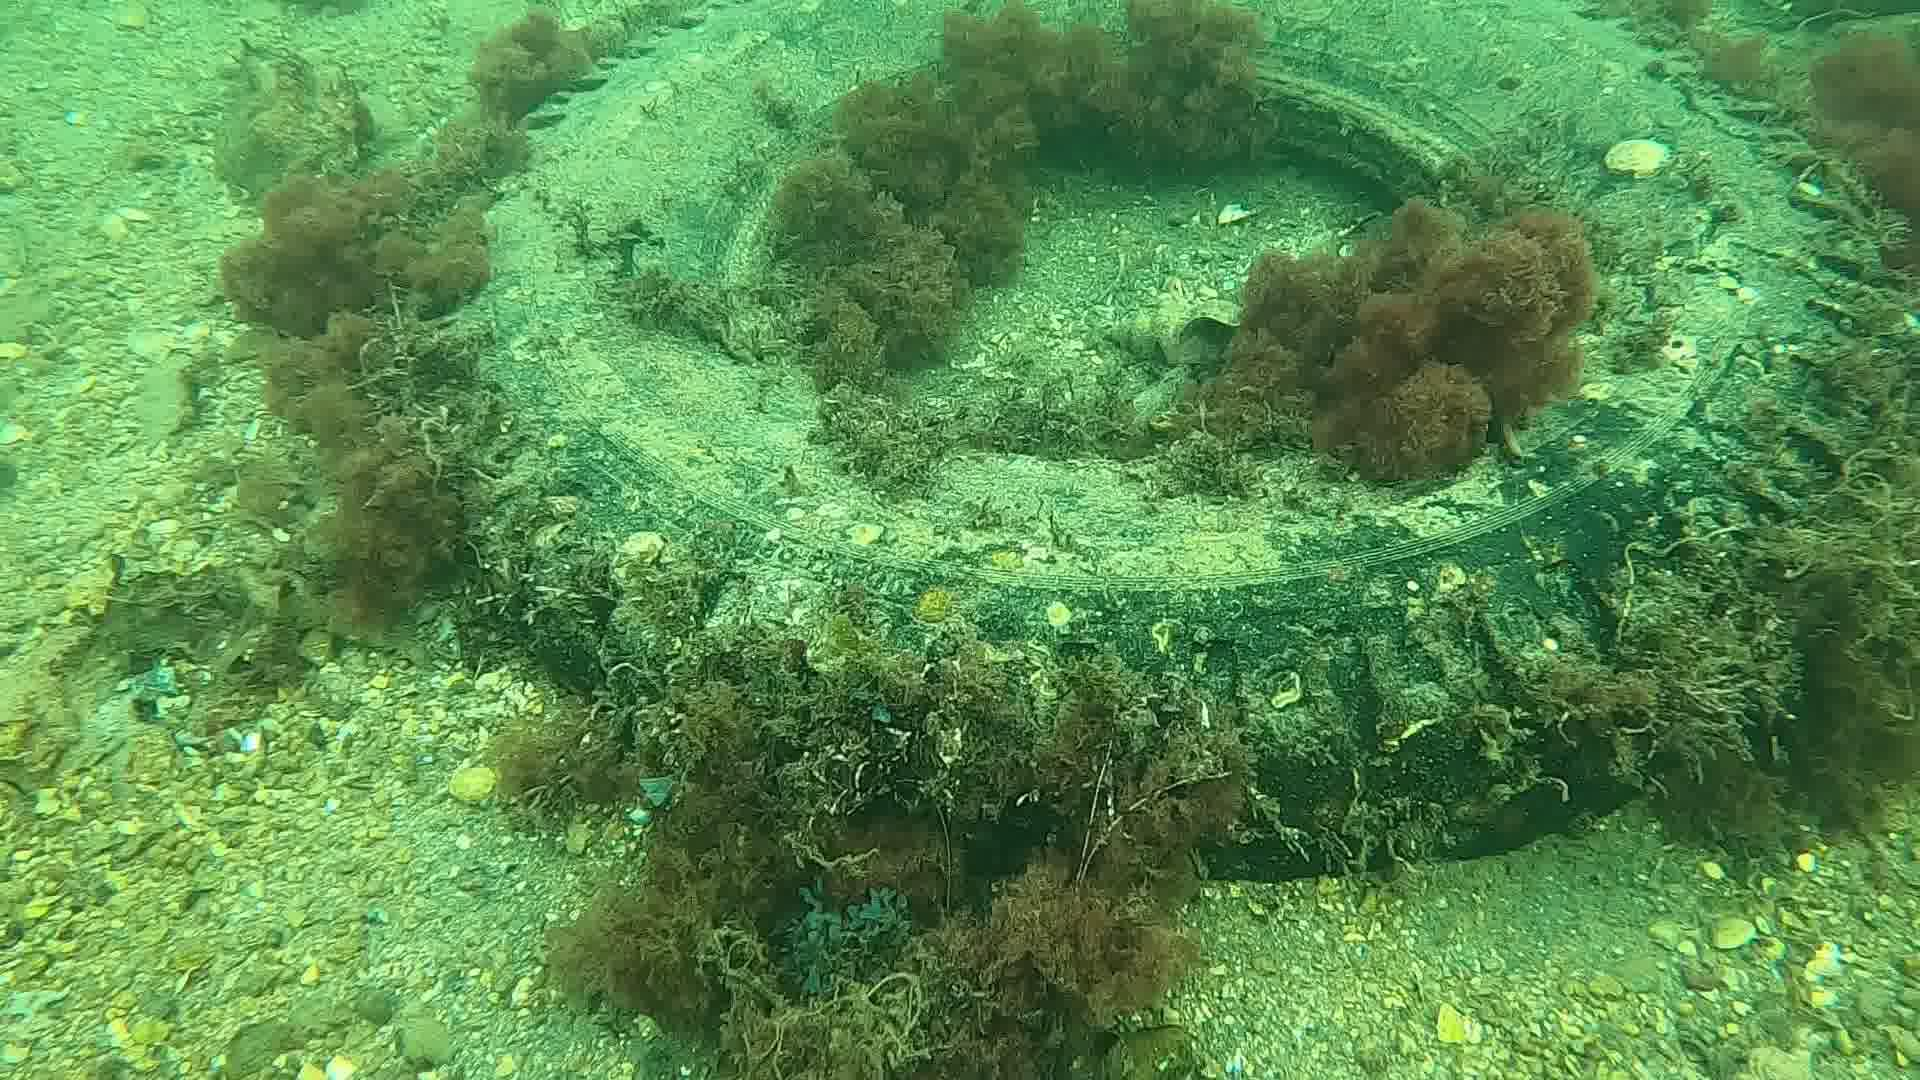tire: (460, 0, 1894, 880)
